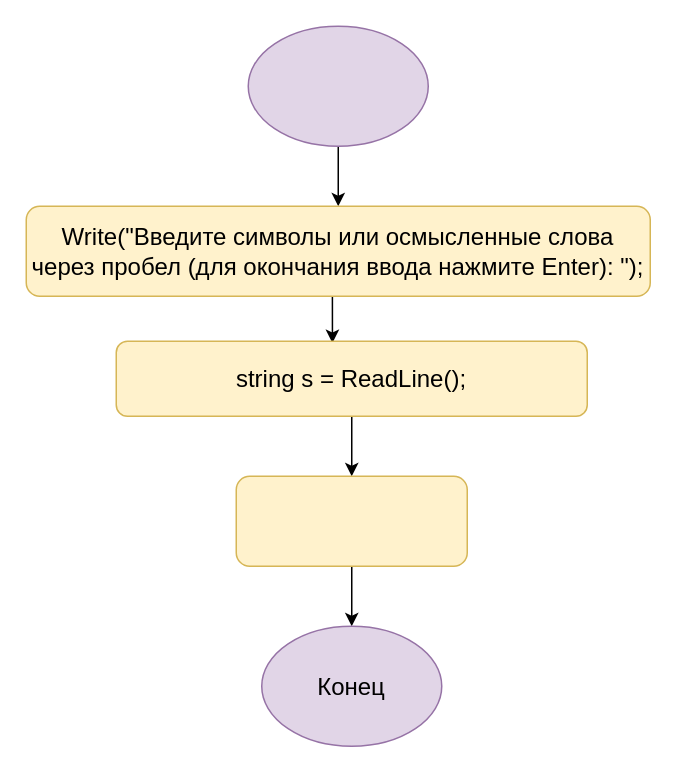
This 677x773 diagram has some shape labels left out. Each missing label, with the box of its shape:
PrintResult(s);: (235, 475, 467, 566)
Начало: (247, 25, 428, 146)
